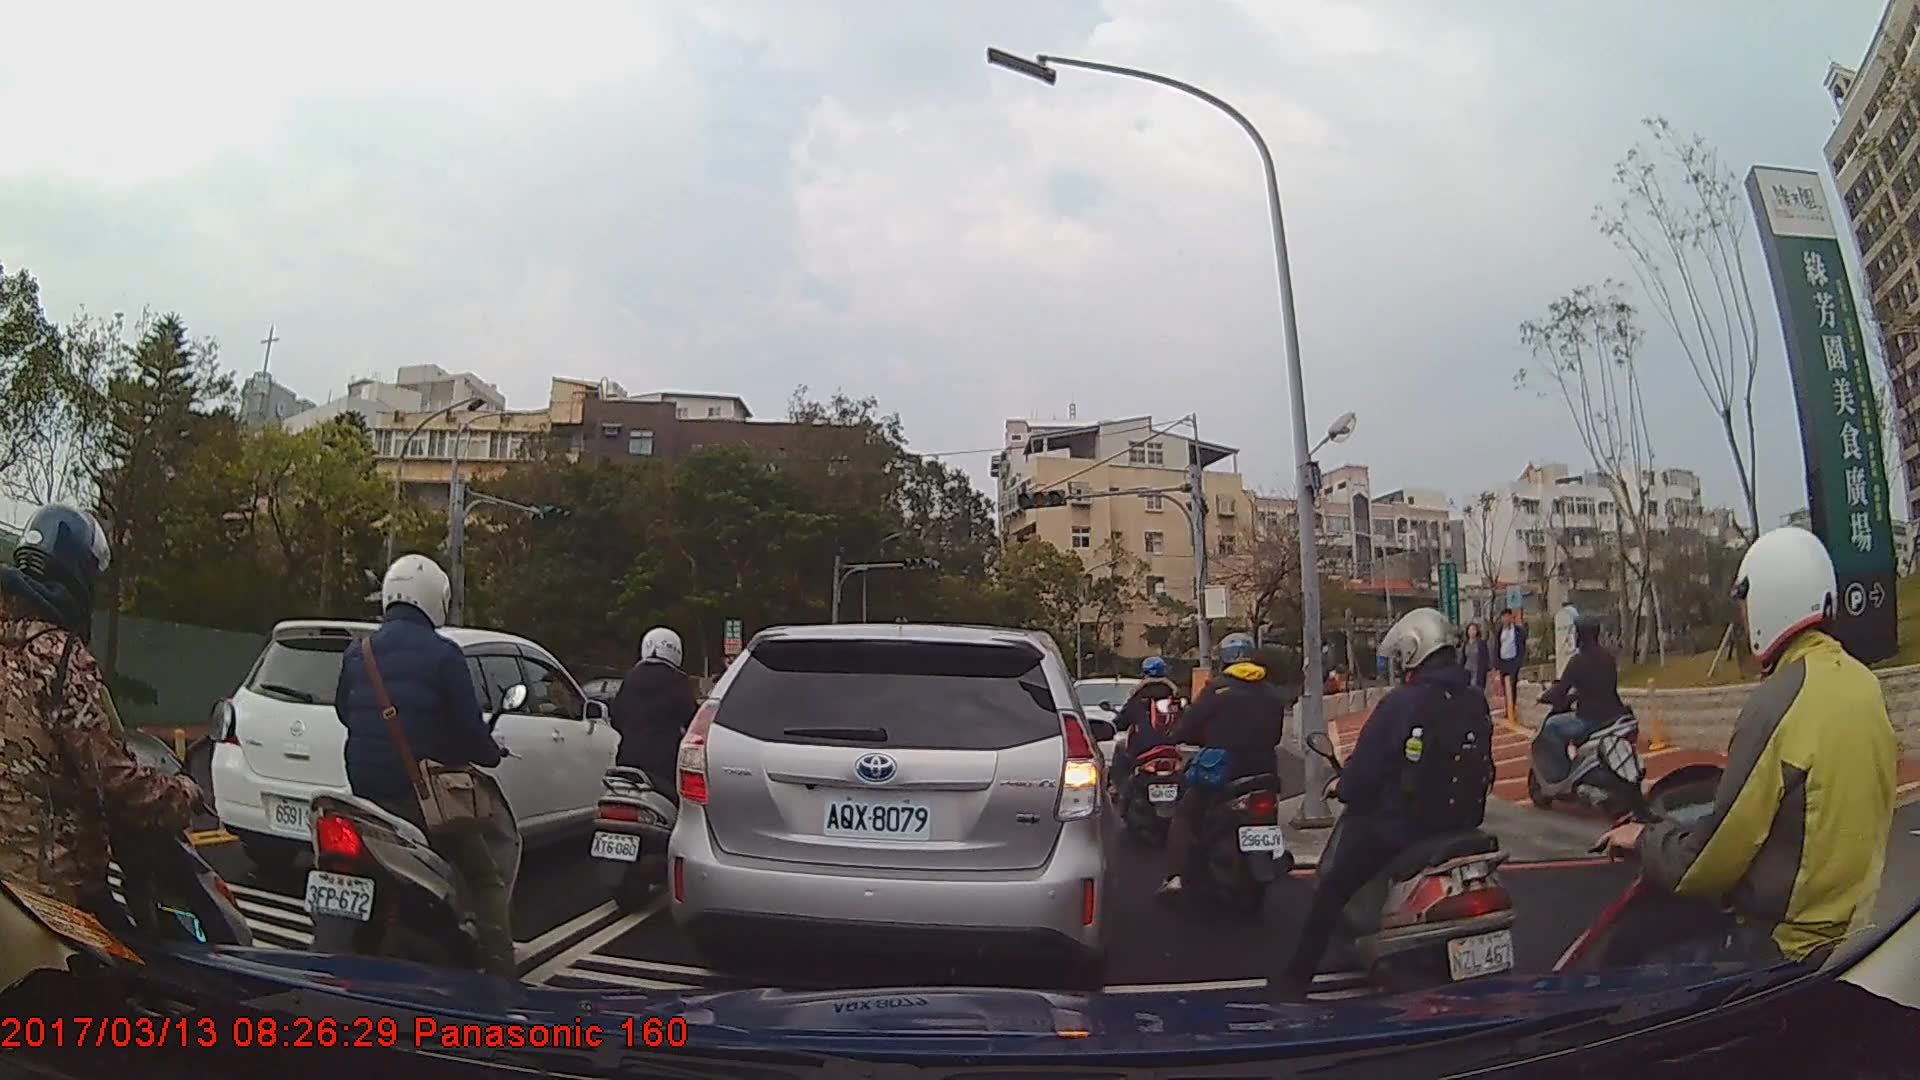pedestrian: (1489, 610, 1532, 721), (1460, 625, 1494, 719)
rider: (1536, 525, 1913, 1080), (1, 499, 261, 1054), (300, 546, 527, 1000), (1292, 607, 1526, 1017), (589, 627, 736, 920), (1161, 633, 1297, 914), (1522, 616, 1647, 826), (1100, 653, 1191, 851)
vehicle: (664, 624, 1115, 985), (211, 618, 634, 885), (1058, 675, 1163, 783)
